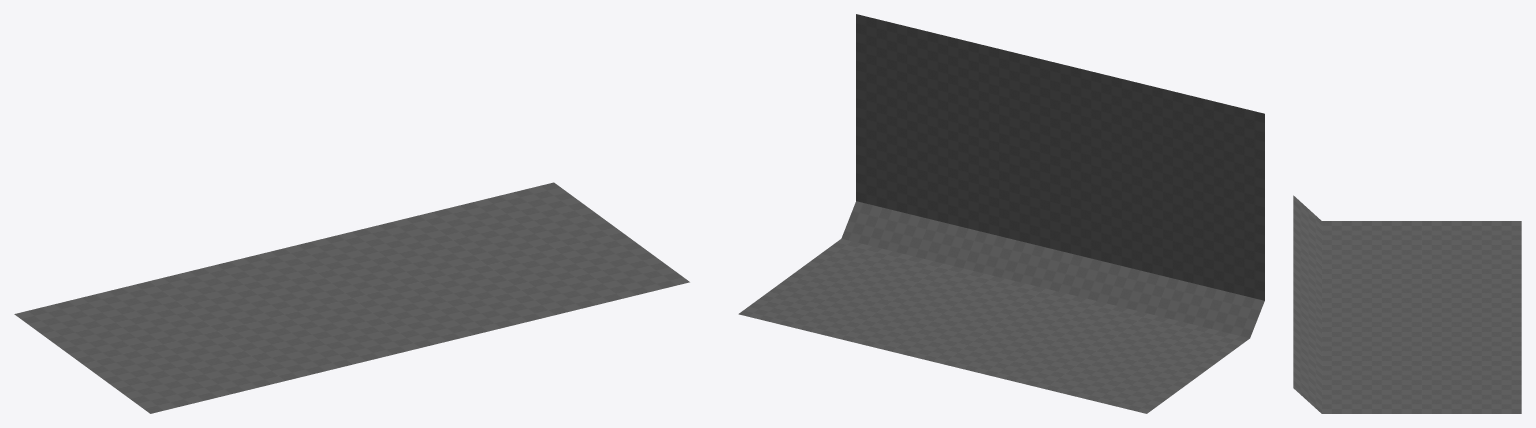
The picture shows the model from 3 angles, left to right: view 1: azimuth 30°, elevation 25°; view 2: azimuth 150°, elevation 25°; view 3: azimuth 270°, elevation 25°; orthographic projection. The views are drawn at different scales.
Parts seen in each view (by area): view 1: CubeInUpBack; view 2: CubeInUpBack; view 3: CubeInUpBack.
Boxes of the visible parts, left/top/right/bottom form: CubeInUpBack: left=14, top=182, right=689, bottom=413; CubeInUpBack: left=738, top=14, right=1264, bottom=413; CubeInUpBack: left=1293, top=195, right=1521, bottom=413.
Size of the model in its own units: 4 by 2 by 2.
Materials: 1 (1 with a texture image).
